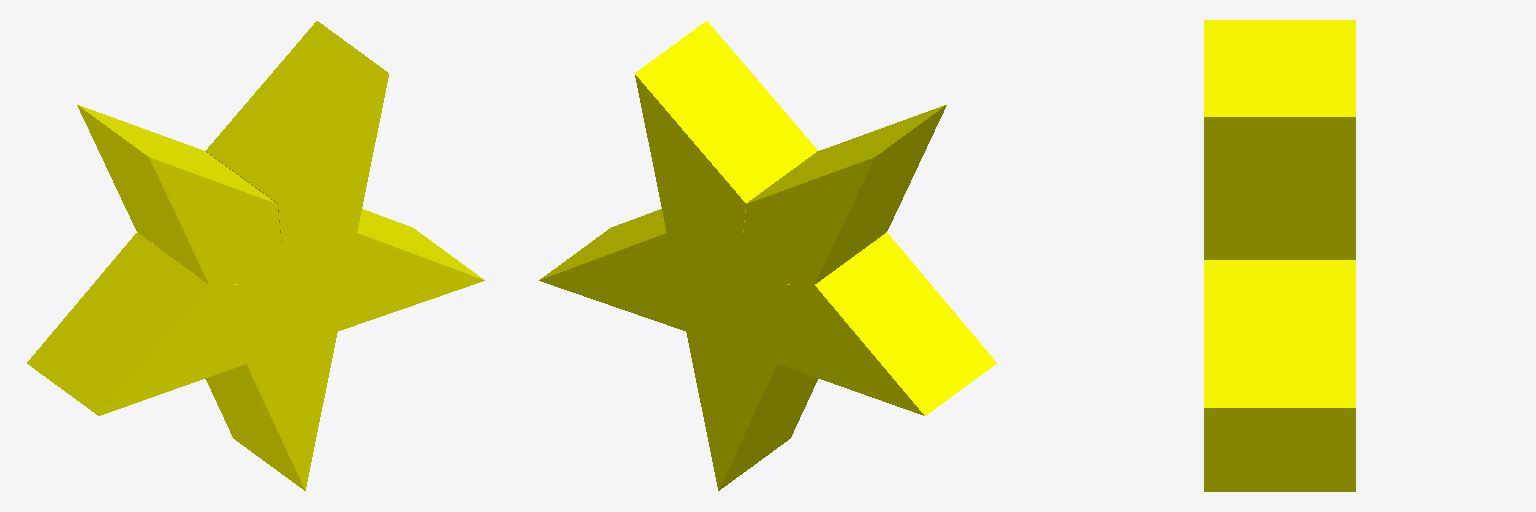
robot.urdf — globe:
<?xml version="1.0"?>
<robot name="globe">
  <link name ="star1">
    <visual>
      <origin xyz='0 0 0'/>
      <geometry>
        <mesh filename="yellow_star.obj"  convex="true" scale="1 1 1" />
      </geometry>
			<material name="red">
        <color rgba="1 1 0 1"/>
  		</material>
    </visual>
    <collision>
      <origin xyz='0 0 0'/>
      <geometry>
        <mesh filename="yellow_star.obj"  convex="true" scale="1 1 1" />
      </geometry>
    </collision>


  </link>
  <link name ="star2">
    <visual>
      <origin xyz='0 0 0' rpy="0 1.256 0"/>
      <geometry>
        <mesh filename="yellow_star.obj"  convex="true" scale="1 1 1" />
      </geometry>
      <material name="red">
        <color rgba="1 1 0 1"/>
      </material>
    </visual>
    <collision>
      <origin xyz='0 0 0' rpy="0 1.256 0"/>
      <geometry>
        <mesh filename="yellow_star.obj"  convex="true" scale="1 1 1" />
      </geometry>
    </collision>
  </link>

  <link name ="star3">
    <visual>
      <origin xyz='0 0 0' rpy="0 2.512 0"/>
      <geometry>
        <mesh filename="yellow_star.obj"  convex="true" scale="1 1 1" />
      </geometry>
      <material name="red">
        <color rgba="1 1 0 1"/>
      </material>
    </visual>
    <collision>
      <origin xyz='0 0 0' rpy="0 2.512 0"/>
      <geometry>
        <mesh filename="yellow_star.obj"  convex="true" scale="1 1 1" />
      </geometry>
    </collision>
  </link>


  <link name ="star4">
    <visual>
      <origin xyz='0 0 0' rpy="0 3.76 0"/>
      <geometry>
        <mesh filename="yellow_star.obj"  convex="true" scale="1 1 1" />
      </geometry>
      <material name="red">
        <color rgba="1 1 0 1"/>
      </material>
    </visual>
    <collision>
      <origin xyz='0 0 0' rpy="0 3.76 0"/>
      <geometry>
        <mesh filename="yellow_star.obj"  convex="true" scale="1 1 1" />
      </geometry>
    </collision>
  </link>


  <link name ="star5">
    <visual>
      <origin xyz='0 0 0' rpy="0 5.02 0"/>
      <geometry>
        <mesh filename="yellow_star.obj"  convex="true" scale="1 1 1" />
      </geometry>
      <material name="red">
        <color rgba="1 1 0 1"/>
      </material>
    </visual>
    <collision>
      <origin xyz='0 0 0' rpy="0 5.02 0"/>
      <geometry>
        <mesh filename="yellow_star.obj"  convex="true" scale="1 1 1" />
      </geometry>
    </collision>
  </link>


  <joint name="my_joint1" type="fixed">
    <origin xyz="0 0 0" rpy="0 0 0"/>
    <parent link="star1"/>
    <child link="star2"/>
  </joint>


  <joint name="my_joint2" type="fixed">
    <origin xyz="0 0 0" rpy="0 0 0"/>
    <parent link="star2"/>
    <child link="star3"/>
  </joint>


  <joint name="my_joint3" type="fixed">
    <origin xyz="0 0 0" rpy="0 0 0"/>
    <parent link="star3"/>
    <child link="star4"/>
  </joint>


  <joint name="my_joint4" type="fixed">
    <origin xyz="0 0 0" rpy="0 0 0"/>
    <parent link="star4"/>
    <child link="star5"/>
  </joint>
</robot>

--- What the picture shows (computed from the rendered views, not written in the file) ---
The picture shows the robot from 3 angles, left to right: view 1: azimuth 30°, elevation 25°; view 2: azimuth 150°, elevation 25°; view 3: azimuth 270°, elevation 25°; orthographic projection.
Robot: globe — 5 links, 4 joints (4 fixed); root link star1; default pose: all joints at 0.
Links seen in each view (by area): view 1: star1, star4, star5, star3, star2; view 2: star1, star4, star5, star3, star2; view 3: star2, star1, star5, star3.
Link boxes in pixels (x1,y1,x2,y2): star1: (206,21,388,282); star4: (27,232,285,415); star5: (77,105,284,284); star3: (205,284,337,490); star2: (286,209,484,331); star1: (635,21,817,282); star4: (739,232,996,415); star5: (738,105,946,284); star3: (686,284,818,490); star2: (539,209,737,331); star2: (1204,260,1355,407); star1: (1204,117,1355,259); star5: (1204,20,1355,116); star3: (1204,408,1355,491).
Size in the robot's own frame: 0.2247 by 0.0729 by 0.2209 metres.
5 mesh visuals loaded from 1 distinct referenced files (1 OBJ).